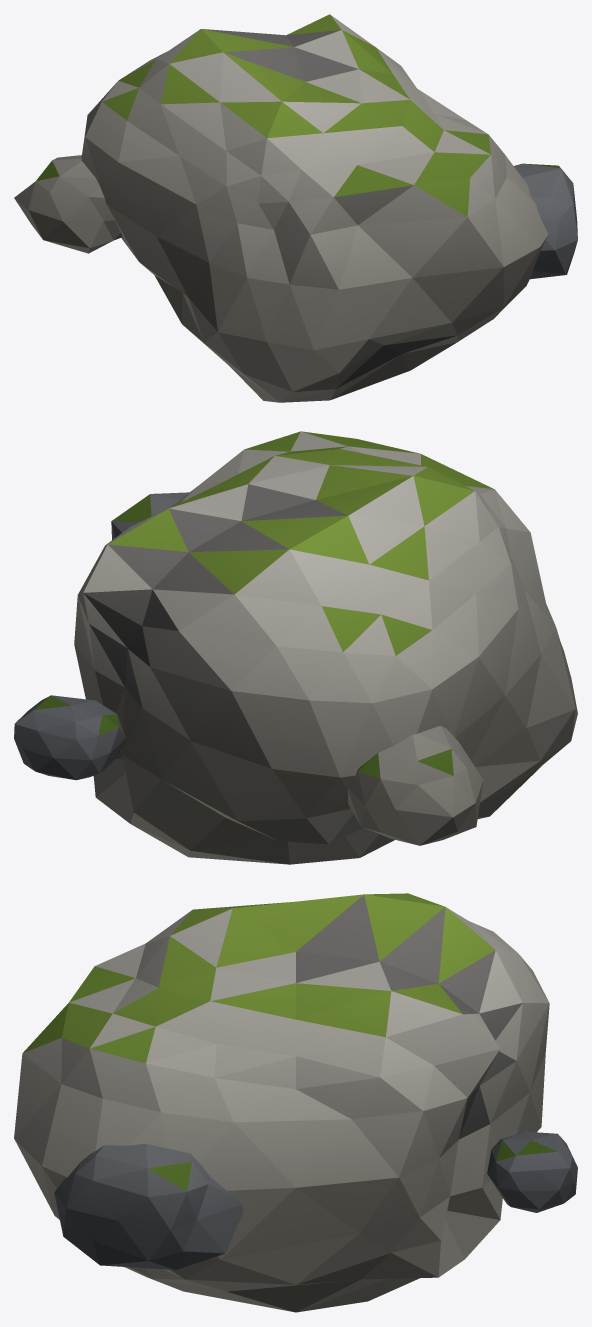
The model's file is Boulder_B.fbx.
3 renders of one model, top to bottom at view 1: azimuth 30°, elevation 25°; view 2: azimuth 150°, elevation 25°; view 3: azimuth 270°, elevation 25°, orthographic. The views are drawn at different scales.
Parts seen in each view (by area): view 1: Boulder_B_LOD0; view 2: Boulder_B_LOD0; view 3: Boulder_B_LOD0.
Boxes of the visible parts, x1=… form: Boulder_B_LOD0: x1=14, y1=14, x2=577, y2=402; Boulder_B_LOD0: x1=14, y1=431, x2=577, y2=864; Boulder_B_LOD0: x1=14, y1=893, x2=577, y2=1312.
Size of what is drawn, in the model's own units: 5.32 by 3.55 by 5.27.
Materials: 1 (1 with a texture image).
